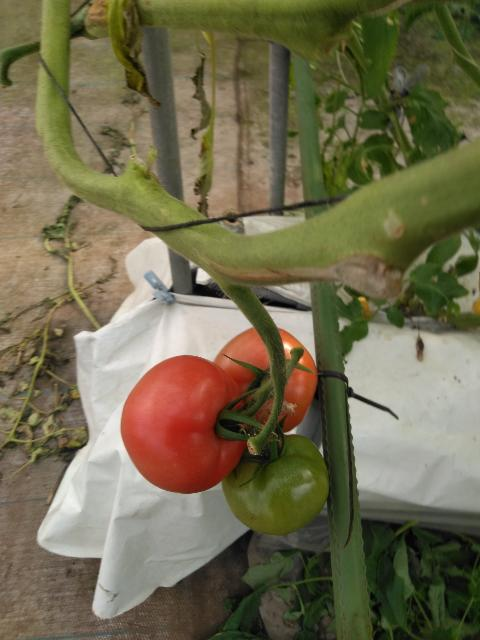b_fully_ripened: (120, 355, 252, 494), (214, 325, 318, 434)
b_green: (222, 434, 330, 535)
